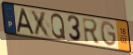3: (67, 15, 83, 44)
A: (15, 8, 36, 37)
G: (100, 20, 118, 48)
Q: (50, 13, 67, 41)
R: (81, 17, 102, 45)
X: (29, 8, 52, 39)
